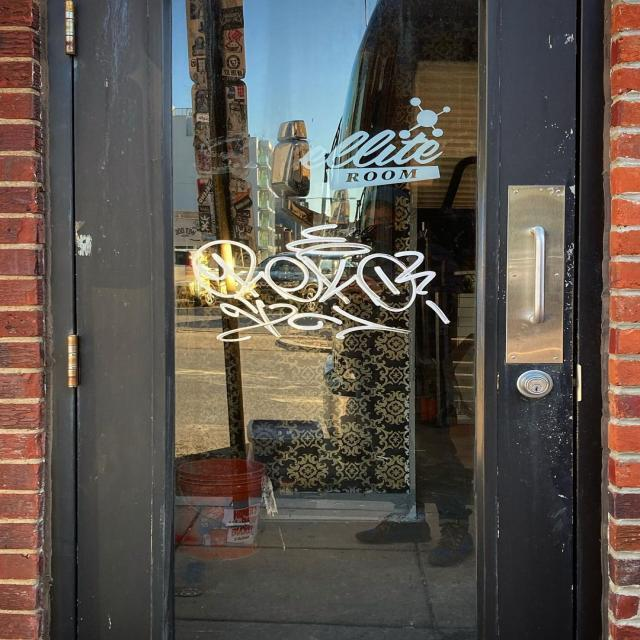nonspitting: (192, 222, 452, 344)
